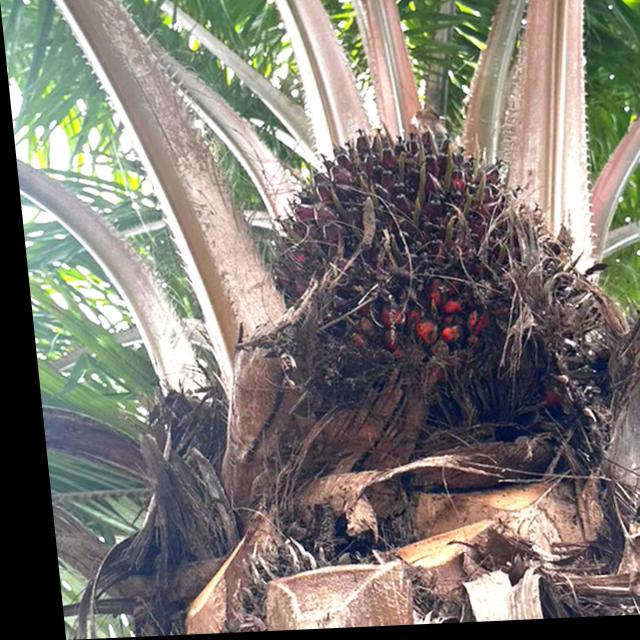ripe: (225, 101, 607, 436)
